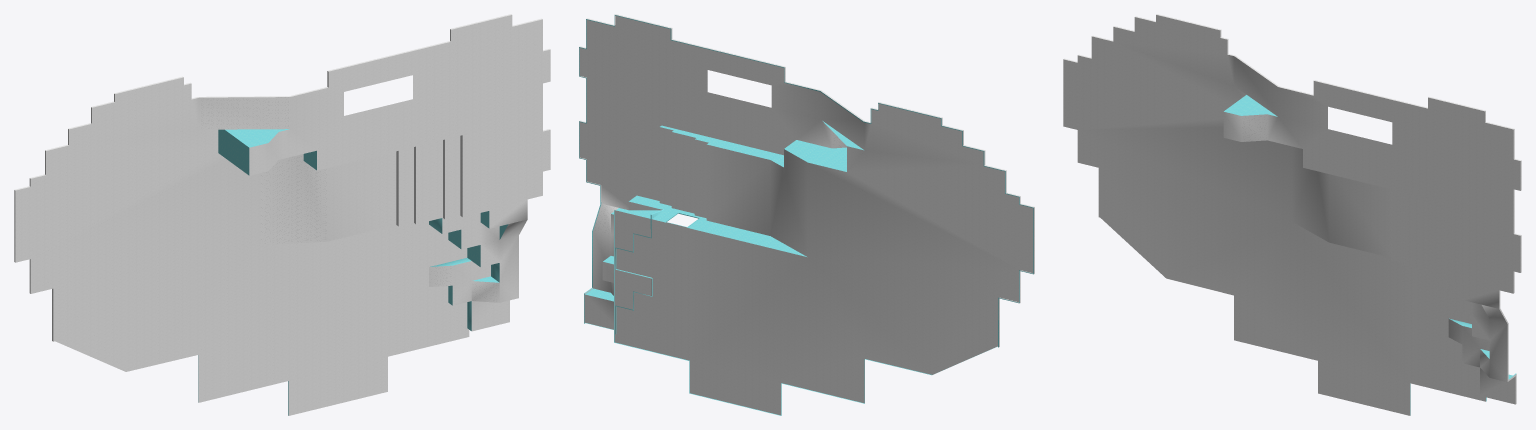
File: North_Pole_Landscape_Main.fbx
3 views of the same model, side by side, from view 1: azimuth 30°, elevation 25°; view 2: azimuth 150°, elevation 25°; view 3: azimuth 330°, elevation 25° (orthographic). The views are drawn at different scales.
Parts seen in each view (by area): view 1: North_Pole_Landscape_Main; view 2: North_Pole_Landscape_Main; view 3: North_Pole_Landscape_Main.
Boxes of the visible parts, x1,y1,x2,y2 form: North_Pole_Landscape_Main: (14, 14, 550, 415); North_Pole_Landscape_Main: (579, 14, 1034, 415); North_Pole_Landscape_Main: (1063, 14, 1521, 415).
Bounding box in the file's own units: 6700 × 4594 × 725.
